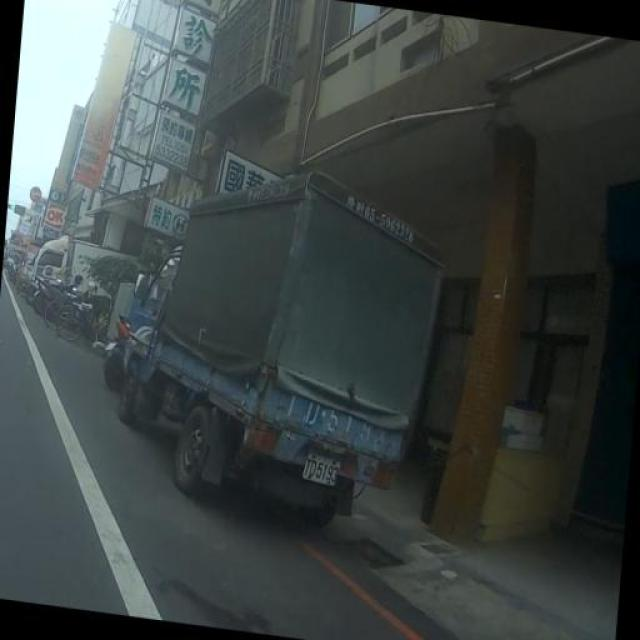illegalparking: (93, 148, 494, 550)
